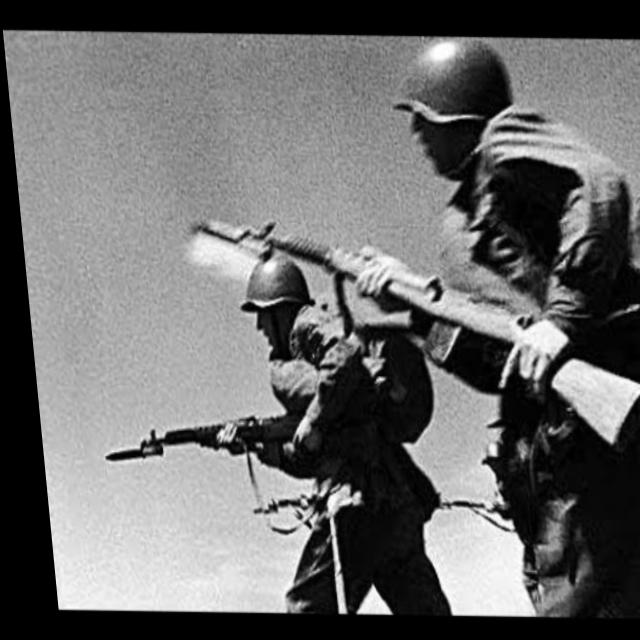other: (386, 38, 640, 619), (224, 251, 428, 626)
